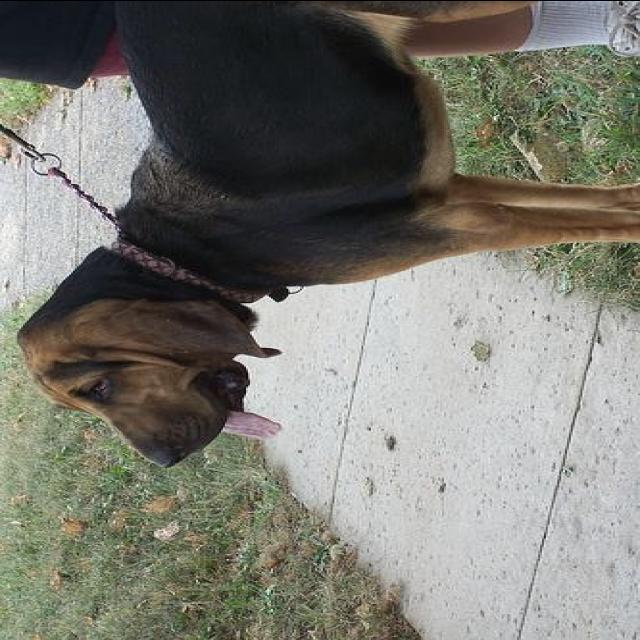bloodhound: (12, 1, 638, 467)
